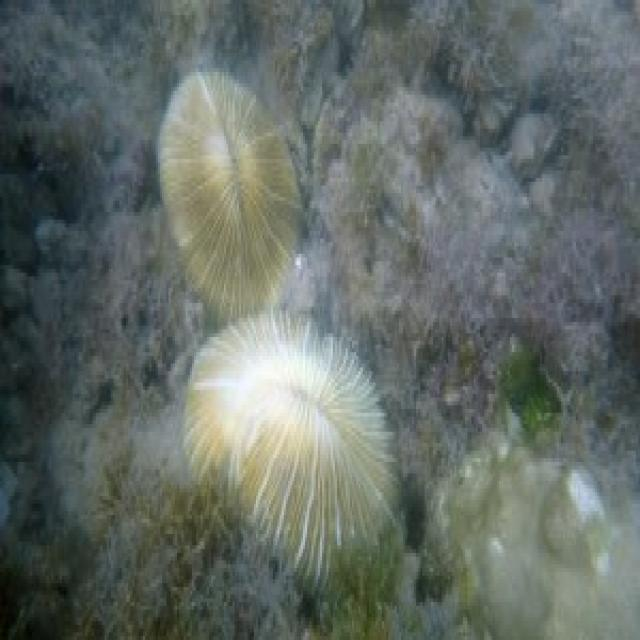Bleached: (184, 308, 394, 577), (159, 69, 300, 315)
